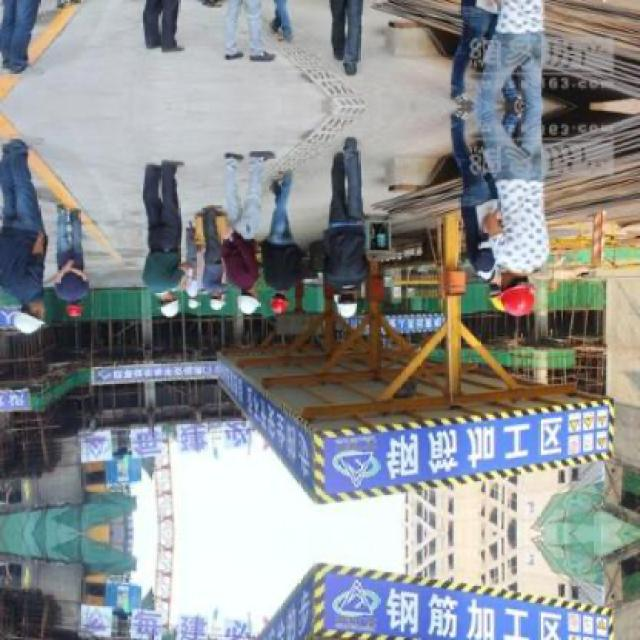con casco: (482, 253, 544, 321), (0, 287, 51, 348), (139, 281, 188, 325), (322, 286, 365, 329), (253, 290, 297, 319)
